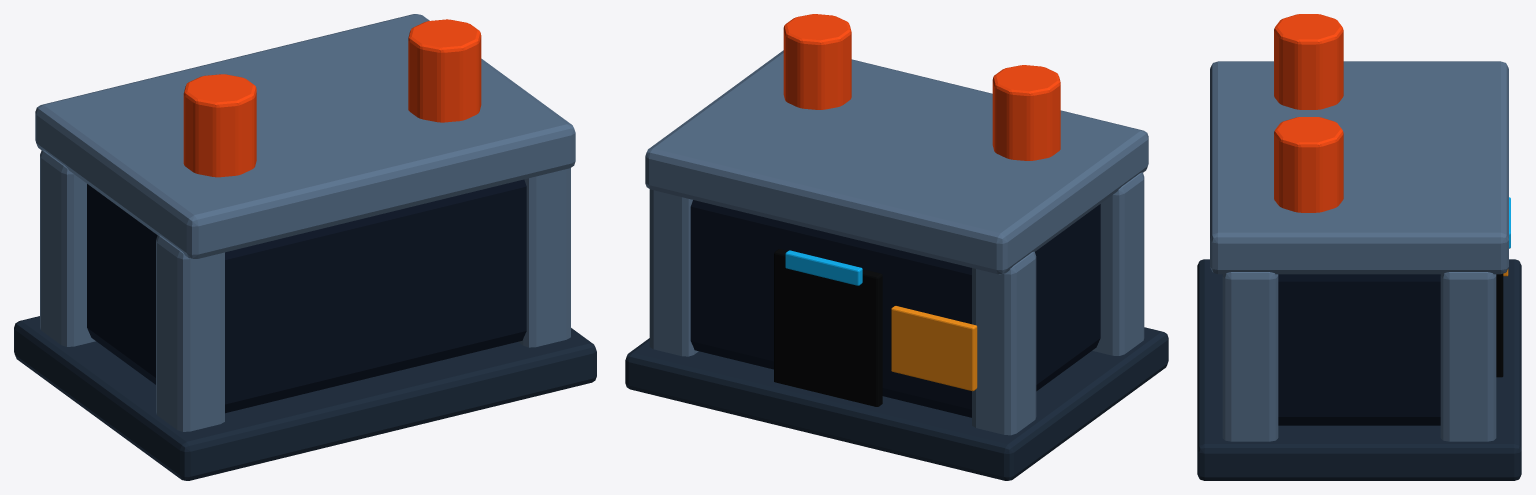
Rendered from assembly_barracks_module.obj.
3 views of the same model, side by side, from view 1: azimuth 30°, elevation 25°; view 2: azimuth 150°, elevation 25°; view 3: azimuth 270°, elevation 25° (orthographic). The views are drawn at different scales.
Parts seen in each view (by area): view 1: rts_barracks_roof_M_steel, rts_barracks_body_M_navy, rts_barracks_foundation_M_gunmetal, rts_barracks_buttress_3_M_steel, rts_barracks_buttress_1_M_steel, rts_barracks_buttress_2_M_steel, rts_barracks_vent_0_M_orange, rts_barracks_vent_1_M_orange; view 2: rts_barracks_roof_M_steel, rts_barracks_body_M_navy, rts_barracks_foundation_M_gunmetal, rts_barracks_door_M_black, rts_barracks_buttress_1_M_steel, rts_barracks_buttress_3_M_steel, rts_barracks_buttress_0_M_steel, rts_barracks_vent_1_M_orange, rts_barracks_vent_0_M_orange, rts_barracks_faction_mark_M_gold, rts_barracks_door_light_M_cyan; view 3: rts_barracks_roof_M_steel, rts_barracks_body_M_navy, rts_barracks_foundation_M_gunmetal, rts_barracks_buttress_0_M_steel, rts_barracks_buttress_2_M_steel, rts_barracks_vent_0_M_orange, rts_barracks_vent_1_M_orange, rts_barracks_door_M_black.
Boxes of the visible parts, x1,y1,x2,y2 form: rts_barracks_roof_M_steel: (35,14,575,259); rts_barracks_body_M_navy: (87,179,526,413); rts_barracks_foundation_M_gunmetal: (14,316,596,480); rts_barracks_buttress_3_M_steel: (156,235,224,431); rts_barracks_buttress_1_M_steel: (40,150,95,346); rts_barracks_buttress_2_M_steel: (518,168,570,347); rts_barracks_vent_0_M_orange: (408,19,481,122); rts_barracks_vent_1_M_orange: (183,74,256,177); rts_barracks_roof_M_steel: (645,50,1148,274); rts_barracks_body_M_navy: (690,200,1100,417); rts_barracks_foundation_M_gunmetal: (625,327,1168,480); rts_barracks_door_M_black: (774,249,882,406); rts_barracks_buttress_1_M_steel: (972,251,1036,435); rts_barracks_buttress_3_M_steel: (1092,172,1144,355); rts_barracks_buttress_0_M_steel: (649,189,698,356); rts_barracks_vent_1_M_orange: (992,65,1060,160); rts_barracks_vent_0_M_orange: (783,14,851,109); rts_barracks_faction_mark_M_gold: (891,306,977,391); rts_barracks_door_light_M_cyan: (785,250,862,285); rts_barracks_roof_M_steel: (1210,61,1508,274); rts_barracks_body_M_navy: (1278,274,1440,425); rts_barracks_foundation_M_gunmetal: (1197,259,1521,480); rts_barracks_buttress_0_M_steel: (1440,272,1496,441); rts_barracks_buttress_2_M_steel: (1222,272,1278,441); rts_barracks_vent_0_M_orange: (1274,117,1343,212); rts_barracks_vent_1_M_orange: (1274,14,1343,109); rts_barracks_door_M_black: (1496,273,1503,377).
Size of the model in its own units: 1.78 by 1.35 by 1.28.
